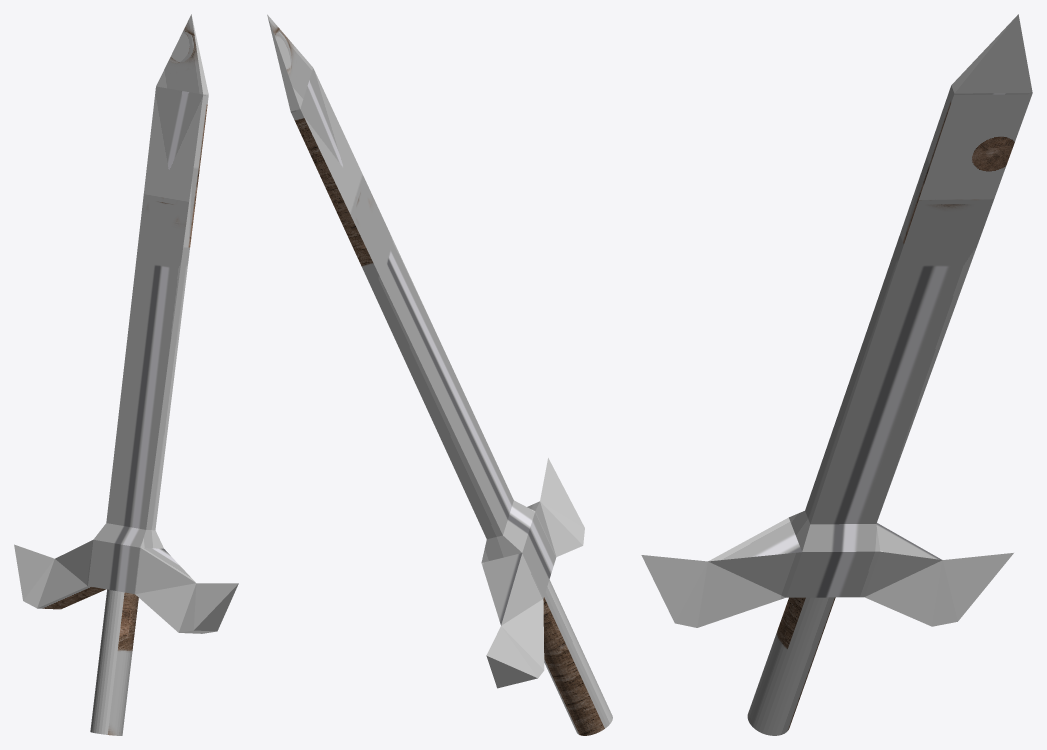
Rendered from Protagonista112.obj.
3 renders of one model, left to right at view 1: azimuth 30°, elevation 25°; view 2: azimuth 150°, elevation 25°; view 3: azimuth 270°, elevation 25°, orthographic. The views are drawn at different scales.
Parts seen in each view (by area): view 1: Cube; view 2: Cube; view 3: Cube.
Boxes of the visible parts, left/top/right/bottom form: Cube: left=14, top=14, right=238, bottom=735; Cube: left=267, top=14, right=612, bottom=735; Cube: left=641, top=14, right=1032, bottom=735.
Size of the model in its own units: 0.5443 by 1.63 by 0.6967.
Materials: 1 (1 with a texture image).
